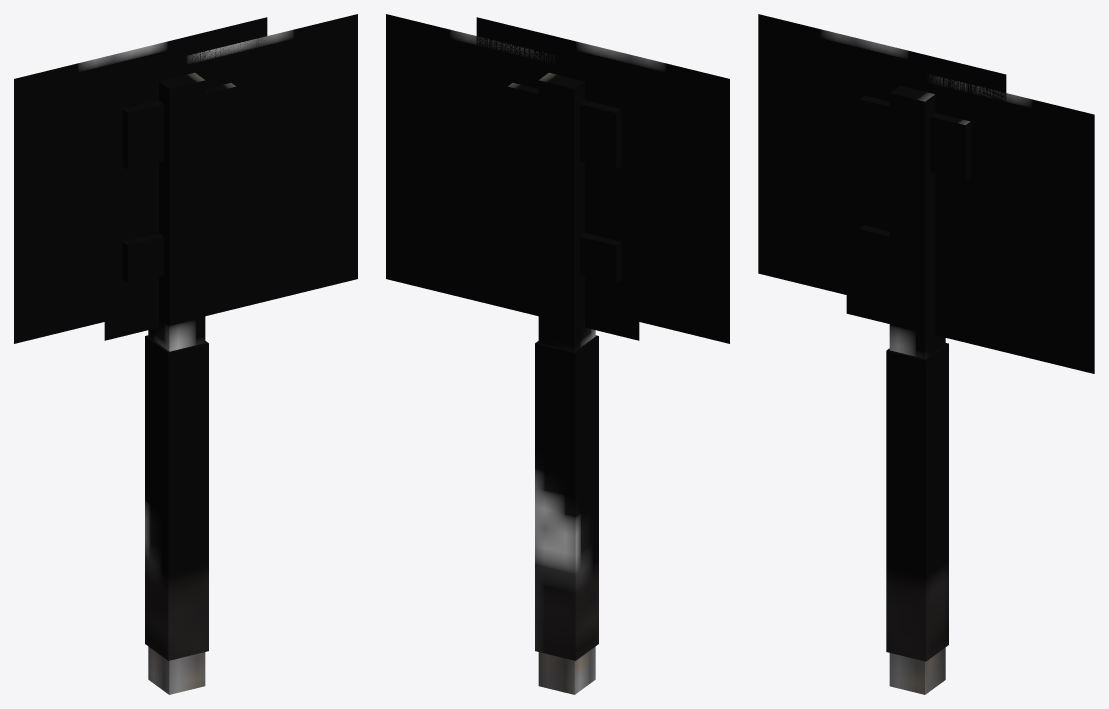
Rendered from hand_axe.obj.
3 views of the same model, side by side, from view 1: azimuth 30°, elevation 25°; view 2: azimuth 150°, elevation 25°; view 3: azimuth 330°, elevation 25° (orthographic). The views are drawn at different scales.
Visible parts, largest first — view 1: part_6, part_5, part_1, part_0, part_2, part_3, part_4; view 2: part_5, part_6, part_1, part_0, part_2, part_3, part_4; view 3: part_6, part_5, part_1, part_0, part_3, part_2, part_4.
Boxes of the visible parts, bbox=[...] form: part_6: bbox=[104, 14, 357, 340]; part_5: bbox=[14, 17, 267, 343]; part_1: bbox=[145, 335, 208, 660]; part_0: bbox=[148, 72, 205, 694]; part_2: bbox=[122, 100, 163, 169]; part_3: bbox=[205, 83, 236, 150]; part_4: bbox=[122, 233, 163, 283]; part_5: bbox=[476, 17, 729, 343]; part_6: bbox=[386, 14, 639, 340]; part_1: bbox=[535, 335, 598, 660]; part_0: bbox=[538, 72, 595, 694]; part_2: bbox=[580, 100, 621, 169]; part_3: bbox=[507, 83, 538, 150]; part_4: bbox=[580, 233, 621, 283]; part_6: bbox=[846, 54, 1094, 373]; part_5: bbox=[758, 14, 1006, 333]; part_1: bbox=[886, 343, 948, 661]; part_0: bbox=[889, 85, 945, 694]; part_3: bbox=[930, 113, 970, 180]; part_2: bbox=[859, 95, 889, 162]; part_4: bbox=[859, 225, 889, 273].
Size of the model in its own units: 0.5581 by 0.9987 by 0.0661.
